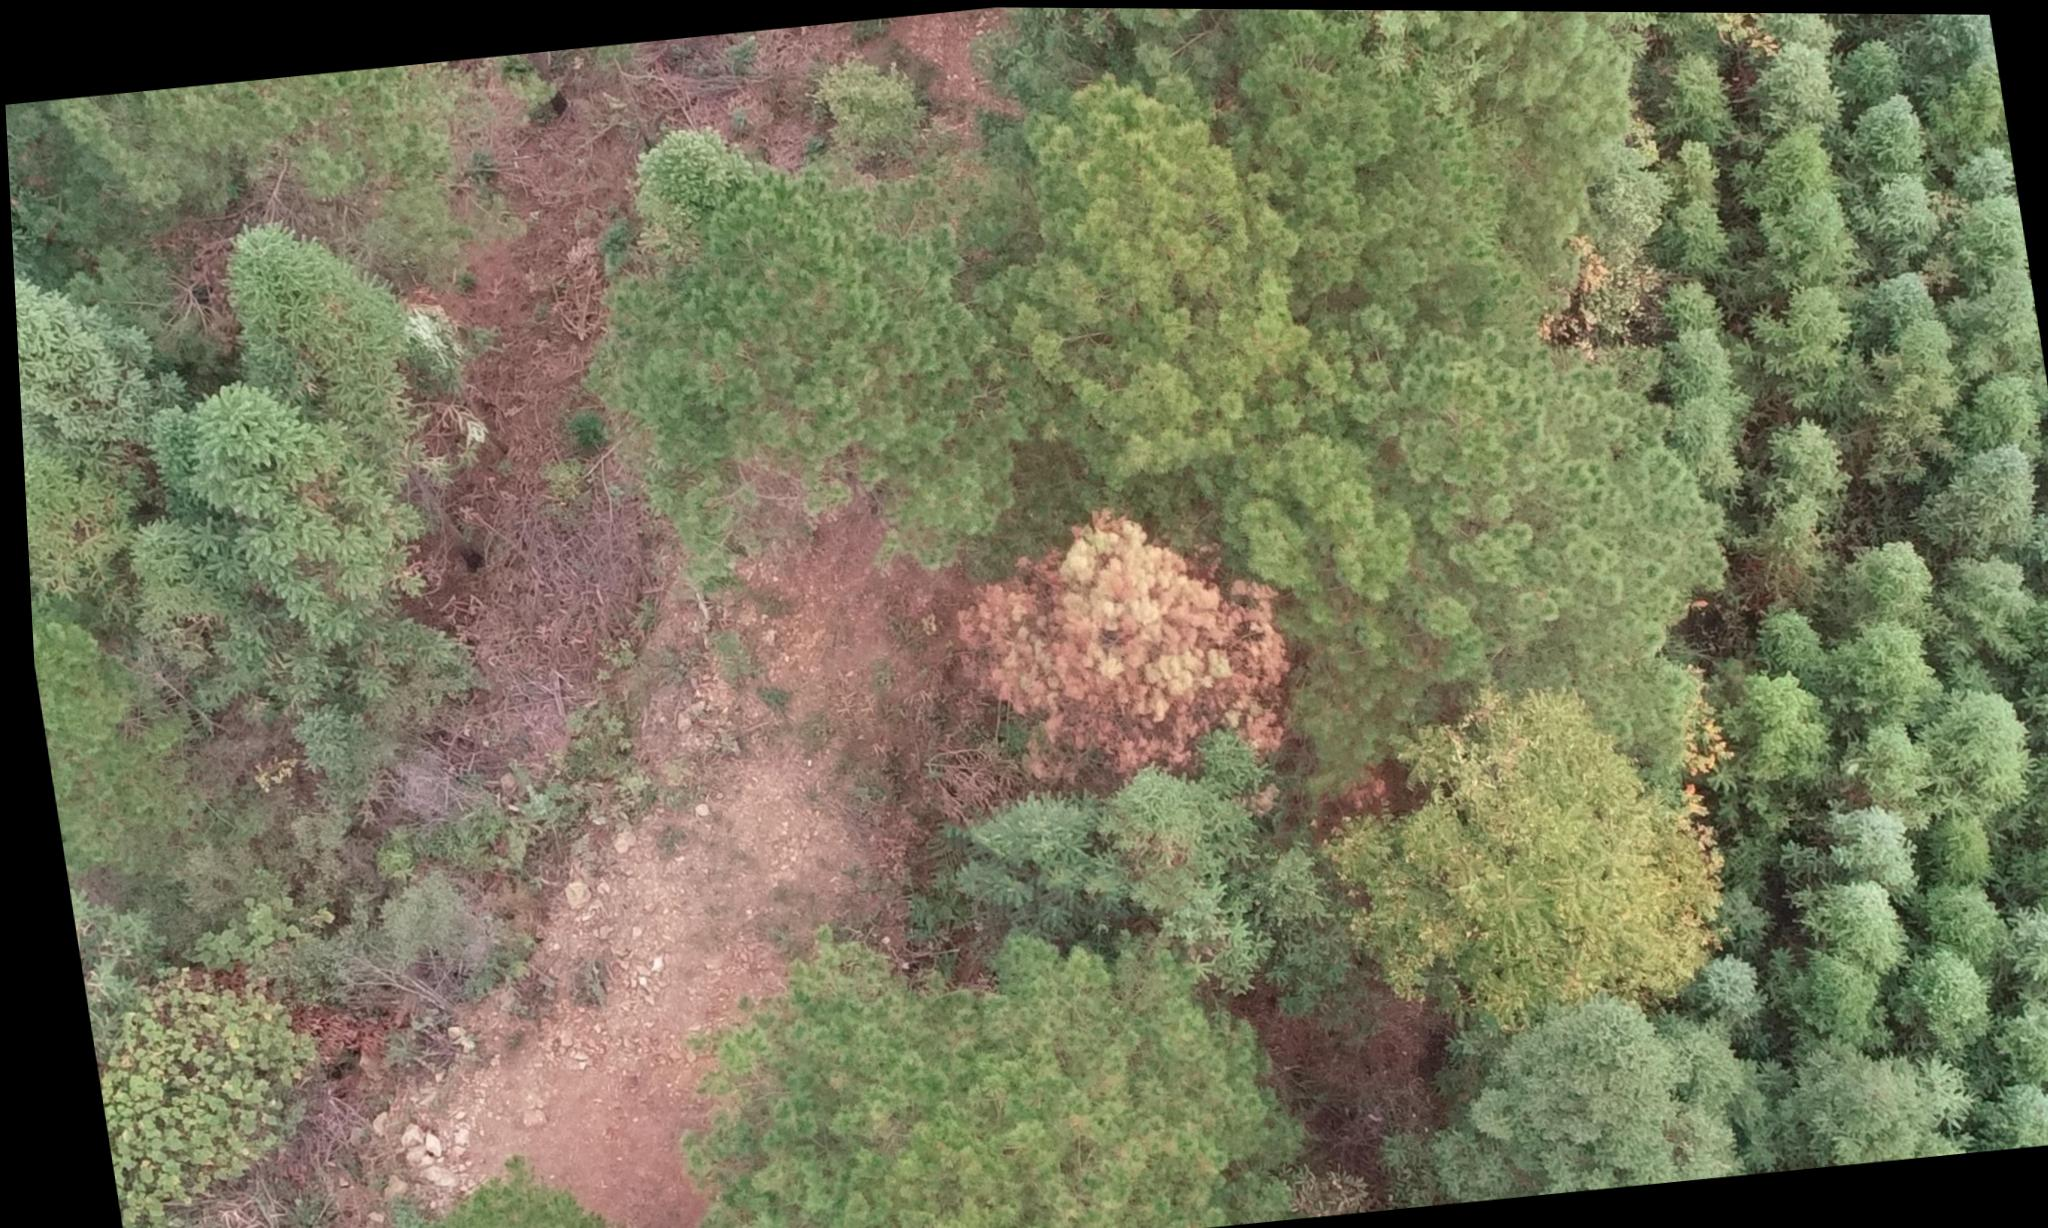heavy: (947, 488, 1298, 791)
light: (1327, 687, 1748, 1023)
